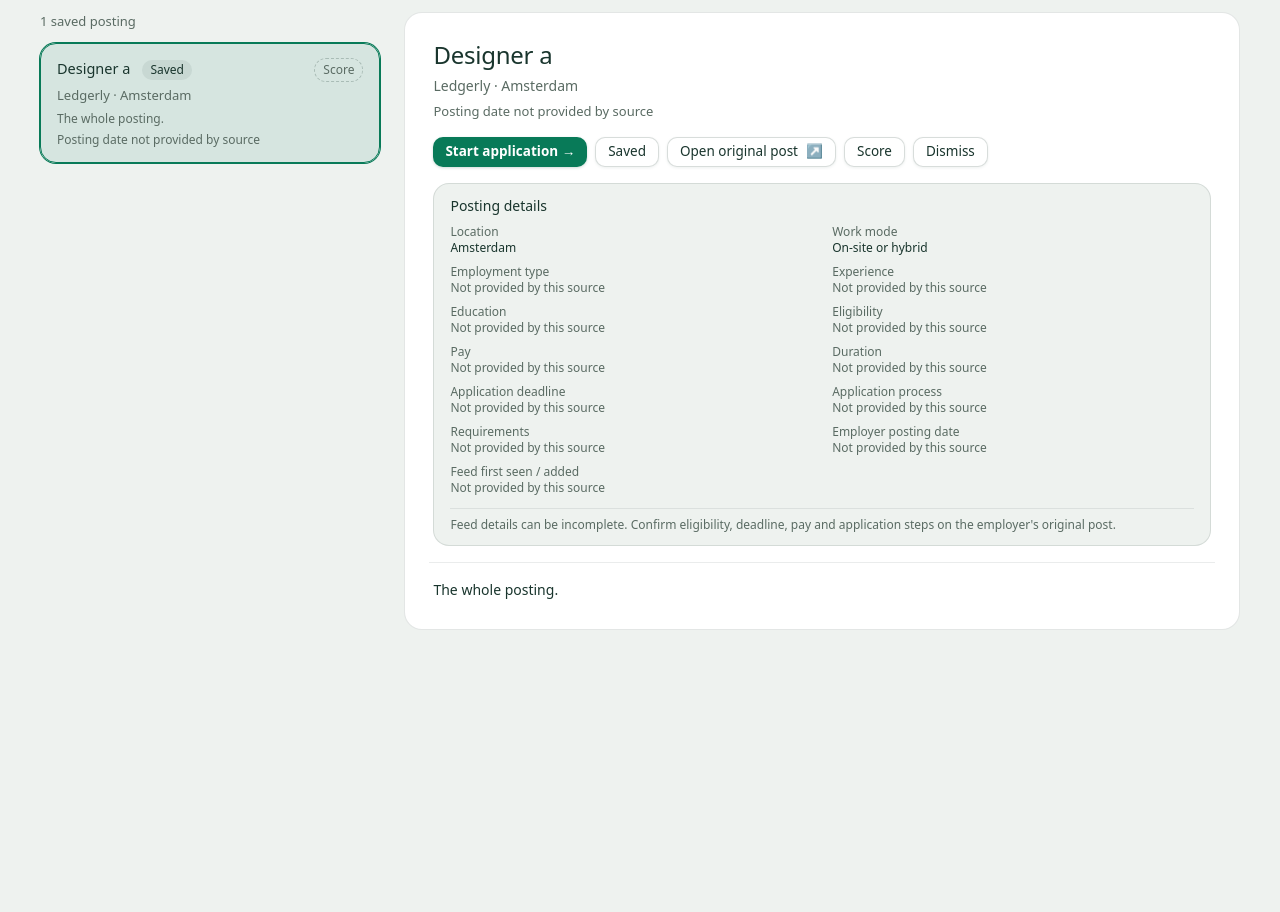
Test: Score in Claude (#221) › closes the waiting tab when GradTrail scores it after all
Click the button "Score" next to "Open original post".
click(874, 152)  # box [844,137,905,167]
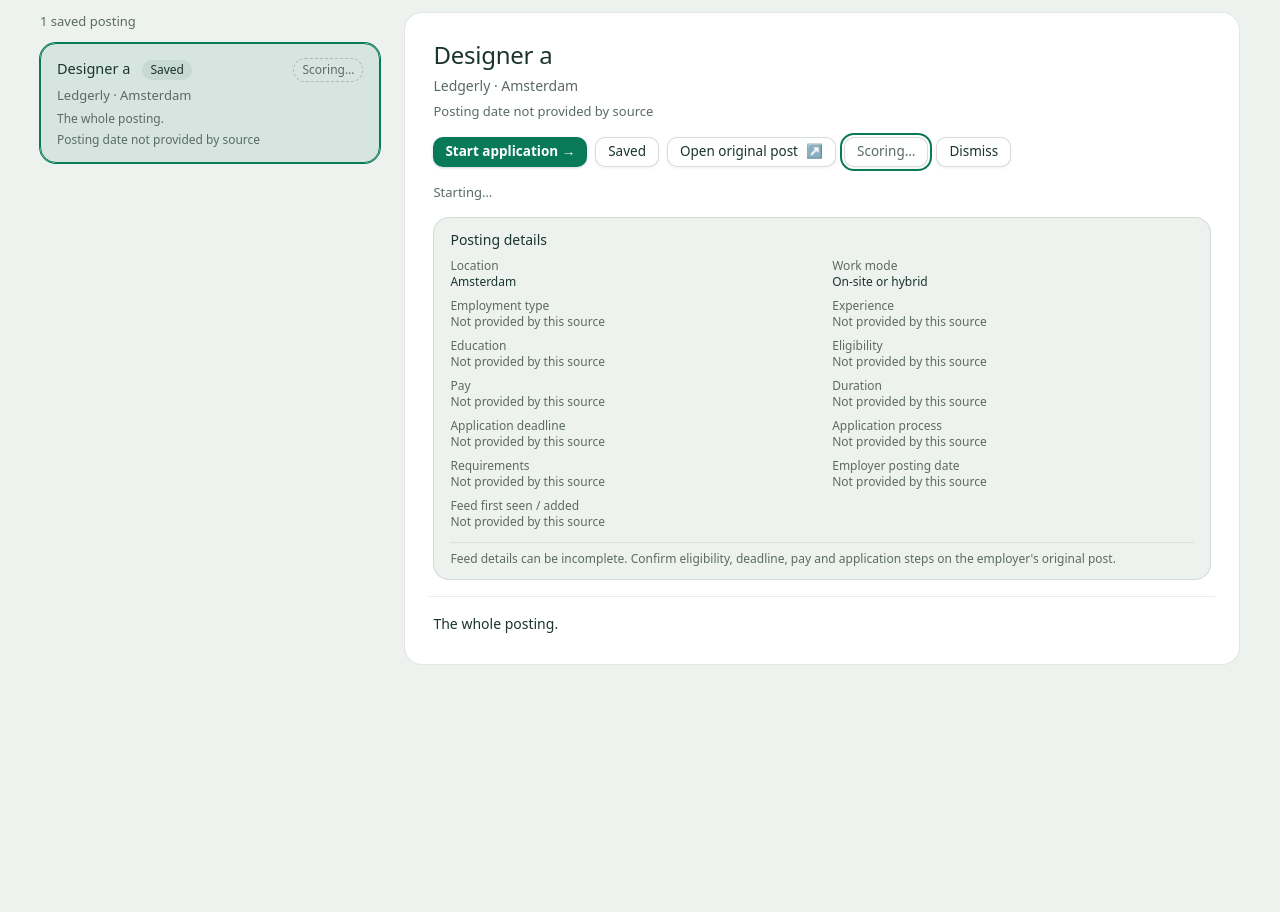
Expected: the button "Scoring…" next to "Open original post" is shown, [844,137,928,167]
